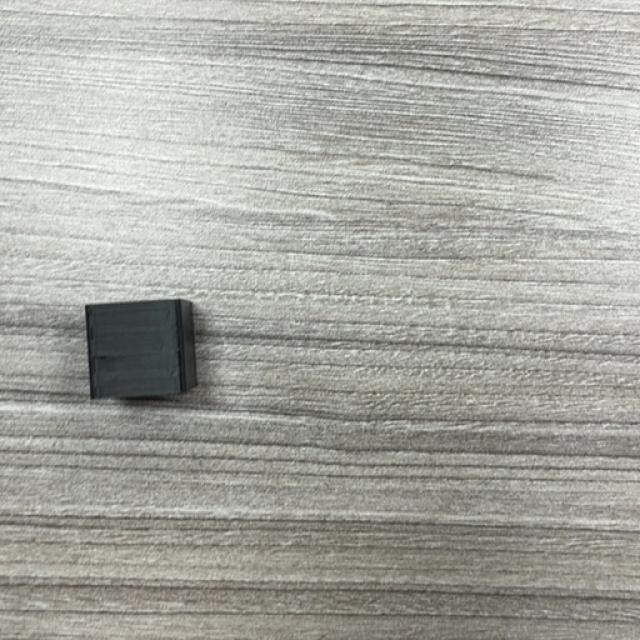Negro: (84, 299, 198, 402)
